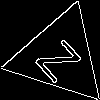Z: (34, 31, 90, 84)
